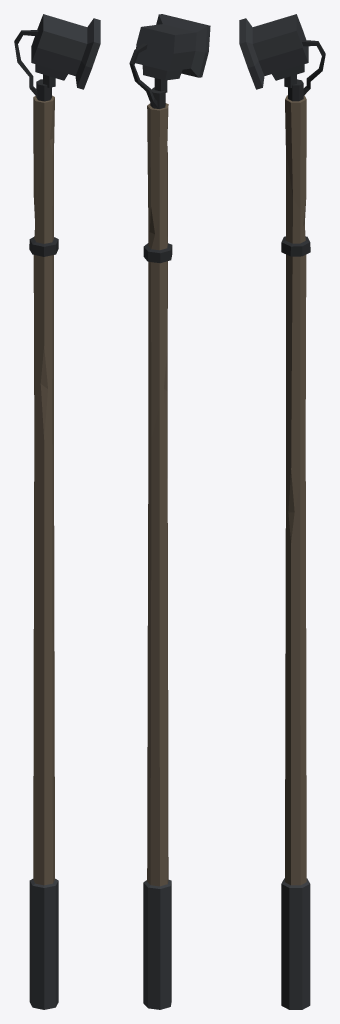
Rendered from SM_Prop_LightPole_01.fbx.
The picture shows the model from 3 angles, left to right: view 1: azimuth 90°, elevation 25°; view 2: azimuth 150°, elevation 25°; view 3: azimuth 270°, elevation 25°; orthographic projection.
Visible parts, largest first — view 1: SM_Prop_LightPole_01; view 2: SM_Prop_LightPole_01; view 3: SM_Prop_LightPole_01.
Boxes of the visible parts, <box> form: SM_Prop_LightPole_01: <box>14,14,100,1009</box>; SM_Prop_LightPole_01: <box>129,14,210,1009</box>; SM_Prop_LightPole_01: <box>239,14,325,1009</box>.
Bounding box in the file's own units: 56.19 × 982 × 78.2.
